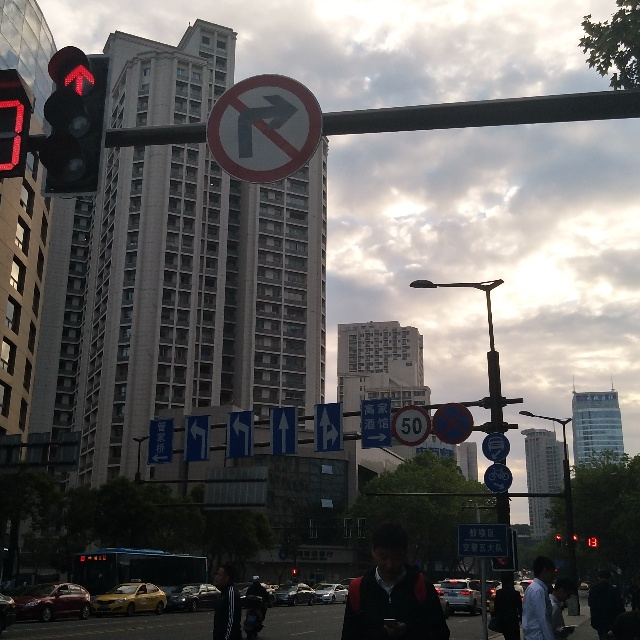left: (226, 409, 258, 459), (182, 413, 212, 465)
straight: (269, 406, 298, 458)
